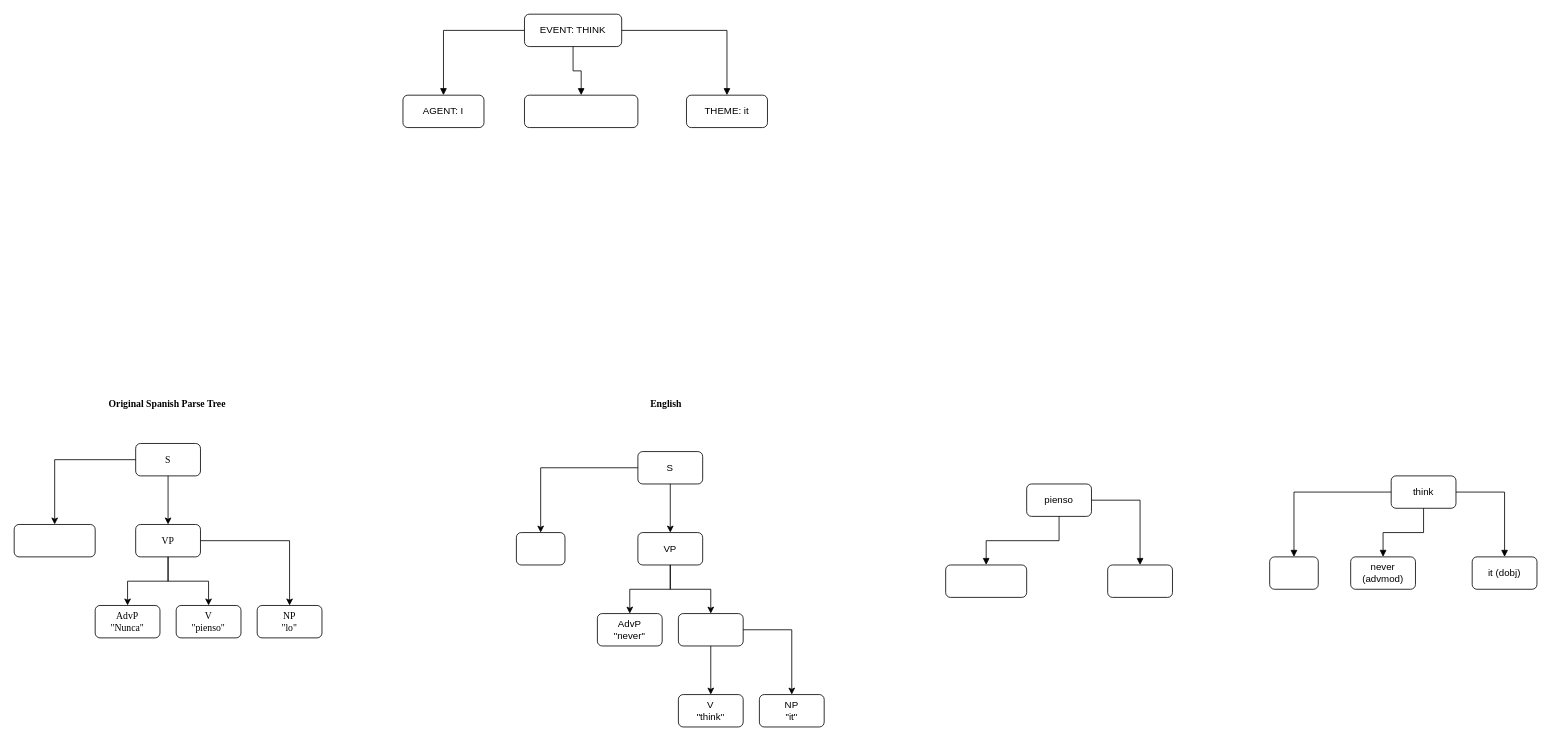
This 1551x741 diagram has some shape labels left out. Each missing label, with the centre of its shape:
"(Implicit NP)" goes at pixel 54 540.
"I (nsubj)" goes at pixel 1293 572.
"lo (dobj)" goes at pixel 1139 580.
"NP I" goes at pixel 540 548.
"nunca (advmod)" goes at pixel 986 580.
"POLARITY: NEGATIVE" goes at pixel 581 111.
"V'" goes at pixel 710 629.
